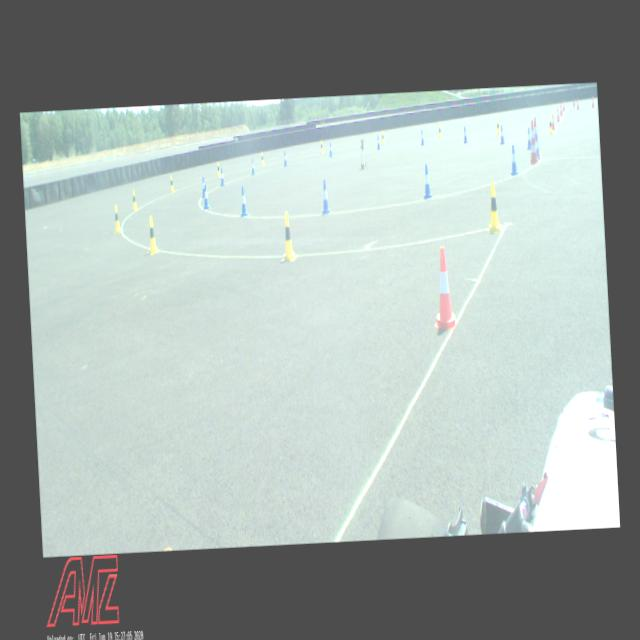blue_cone: (422, 163, 432, 200), (320, 180, 330, 213), (509, 144, 518, 176), (240, 186, 248, 216), (203, 184, 210, 209), (534, 134, 540, 160), (526, 128, 532, 150), (201, 176, 206, 198), (220, 168, 225, 186), (463, 126, 468, 143), (500, 125, 504, 144), (252, 160, 256, 176), (420, 130, 424, 146), (284, 151, 288, 166), (329, 142, 333, 156), (377, 135, 380, 149)
large_orange_cone: (528, 120, 538, 164), (534, 117, 540, 157)
orange_cone: (431, 246, 458, 332), (552, 114, 556, 130), (556, 108, 560, 122), (576, 98, 580, 110), (560, 104, 563, 115), (592, 97, 594, 108), (562, 101, 564, 111)
yellow_cone: (486, 182, 502, 232), (282, 212, 296, 261), (146, 217, 158, 254), (114, 205, 121, 232), (132, 190, 138, 210), (548, 116, 553, 134), (170, 175, 174, 192), (496, 119, 500, 135), (217, 162, 221, 177), (438, 124, 442, 138), (321, 140, 324, 152), (262, 152, 264, 166), (382, 131, 384, 144)
